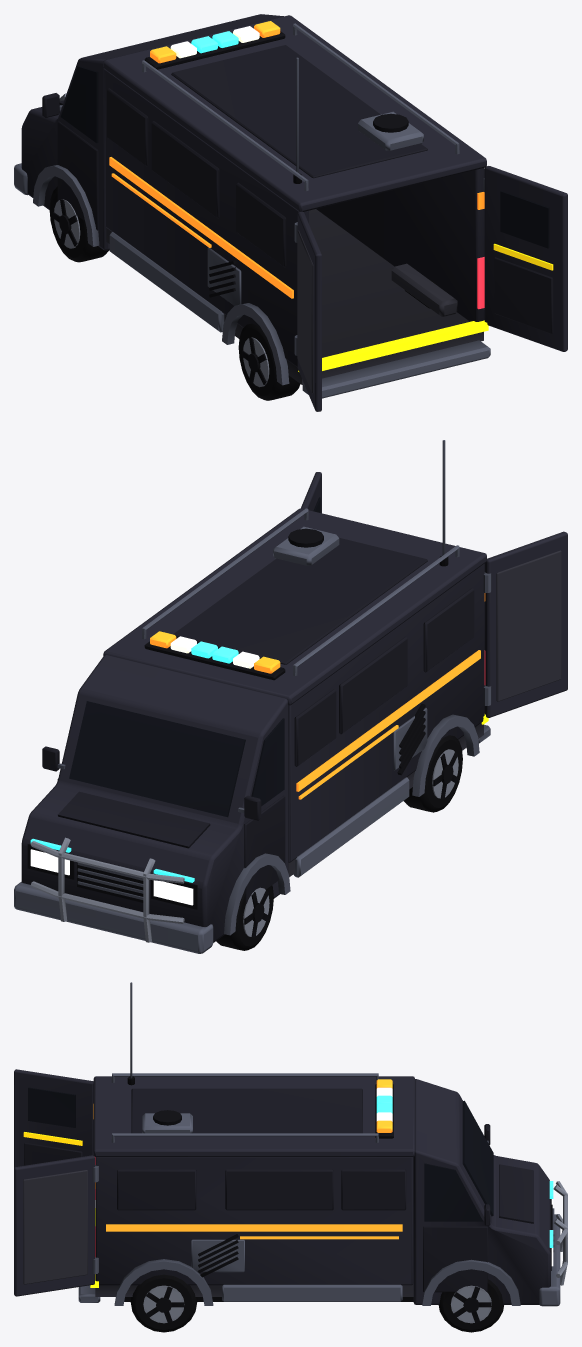
The model's file is getaway_van.glb.
The picture shows the model from 3 angles, top to bottom: view 1: azimuth 30°, elevation 25°; view 2: azimuth 150°, elevation 25°; view 3: azimuth 270°, elevation 25°; orthographic projection. The views are drawn at different scales.
Parts seen in each view (by area): view 1: Van; view 2: Van; view 3: Van.
Part boxes in pixels (x1,y1,x2,y2): Van: [14, 14, 567, 411]; Van: [14, 440, 567, 953]; Van: [14, 982, 567, 1332].
Size of the model in its own units: 3.27 by 4.35 by 7.66.
1 material, 1 textured.
